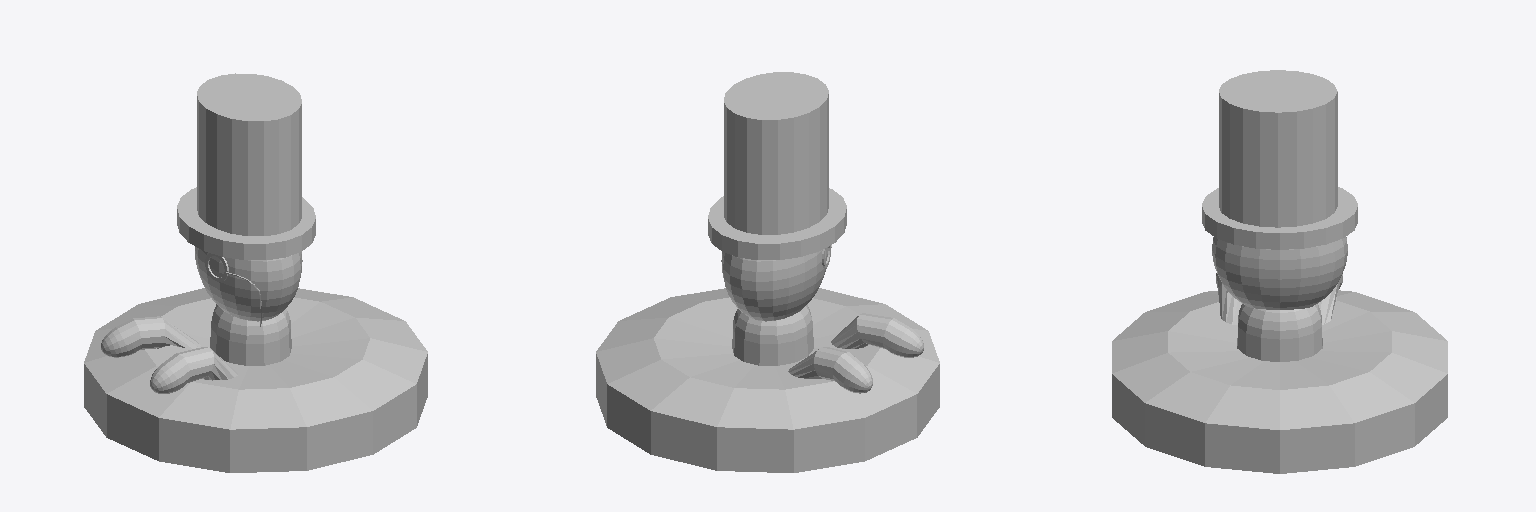
Rendered from asgore.obj.
3 views of the same model, side by side, from view 1: azimuth 30°, elevation 25°; view 2: azimuth 150°, elevation 25°; view 3: azimuth 270°, elevation 25° (orthographic).
Visible parts, largest first — view 1: pCylinder1, pCylinder6, pCylinder5, pSphere4, pSphere1, pCylinder3, pCylinder4, pSphere2; view 2: pCylinder1, pCylinder6, pSphere4, pCylinder5, pSphere1, pCylinder4, pCylinder3, pSphere2; view 3: pCylinder1, pCylinder6, pSphere2, pCylinder5, pSphere1, pCylinder4.
Boxes of the visible parts, box(x1,y1,x2,y2) form: pCylinder1: box(84, 288, 427, 472); pCylinder6: box(197, 73, 301, 235); pCylinder5: box(177, 187, 315, 259); pSphere4: box(195, 247, 281, 321); pSphere1: box(210, 304, 291, 365); pCylinder3: box(101, 316, 200, 357); pCylinder4: box(150, 347, 237, 393); pSphere2: box(270, 252, 302, 318); pCylinder1: box(596, 288, 939, 472); pCylinder6: box(724, 72, 828, 234); pSphere4: box(742, 247, 827, 321); pCylinder5: box(708, 188, 846, 259); pSphere1: box(732, 304, 813, 365); pCylinder4: box(831, 313, 923, 357); pCylinder3: box(788, 347, 872, 393); pSphere2: box(721, 252, 753, 318); pCylinder1: box(1112, 290, 1447, 473); pCylinder6: box(1219, 70, 1337, 227); pSphere2: box(1212, 237, 1347, 309); pCylinder5: box(1202, 187, 1357, 249); pSphere1: box(1237, 304, 1322, 361); pCylinder4: box(1216, 273, 1241, 324).
Bounding box in the file's own units: 5.2 × 5.35 × 5.07.